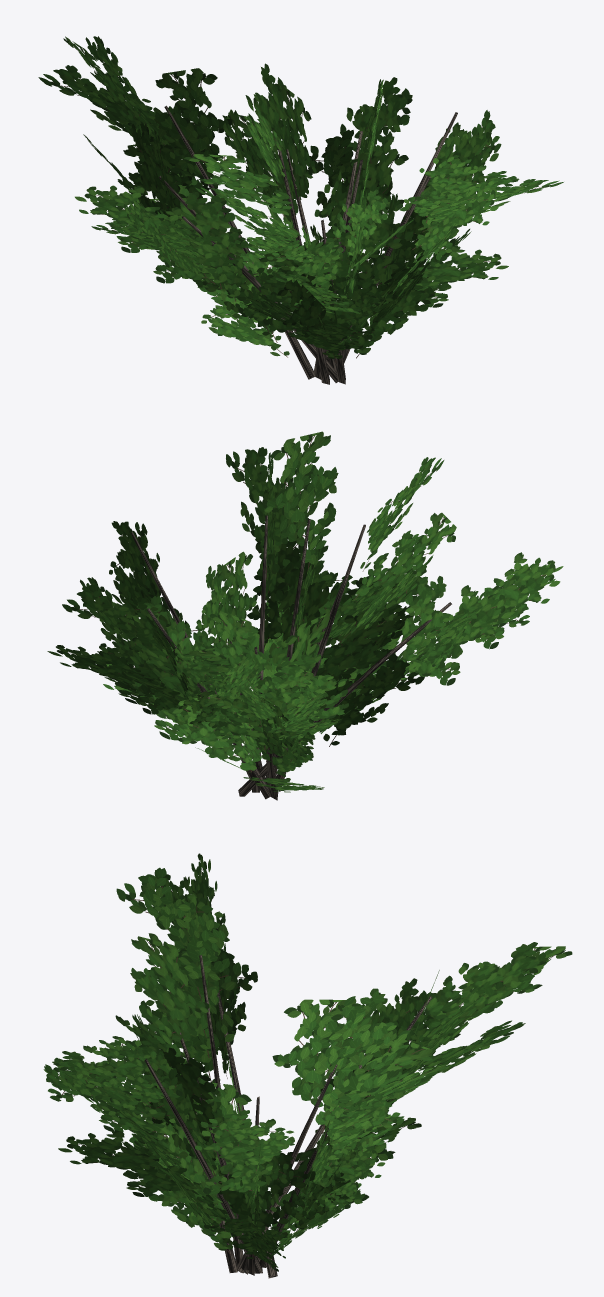
File: EN_Bush_A.fbx
3 renders of one model, top to bottom at view 1: azimuth 30°, elevation 25°; view 2: azimuth 150°, elevation 25°; view 3: azimuth 270°, elevation 25°, orthographic. The views are drawn at different scales.
Parts seen in each view (by area): view 1: EN_Bush_A_LOD0; view 2: EN_Bush_A_LOD0; view 3: EN_Bush_A_LOD0.
Part boxes in pixels (x1,y1,x2,y2): EN_Bush_A_LOD0: (38, 36, 563, 384); EN_Bush_A_LOD0: (47, 431, 563, 800); EN_Bush_A_LOD0: (43, 853, 572, 1278).
Size of what is drawn, in the model's own units: 2.69 by 1.73 by 2.6.
